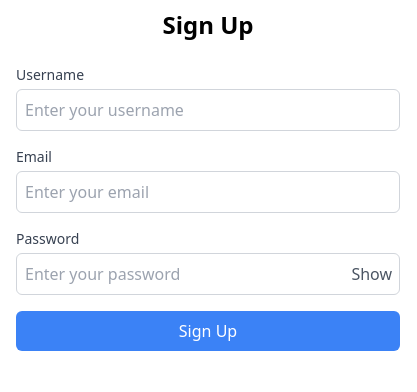
SignUpForm.vue › displays an error message when password is missing
The image size is (417, 392).
Type "testuser" into the field labelled "Username" at (208, 110), box top-left (16, 89), bottom-right (400, 131)
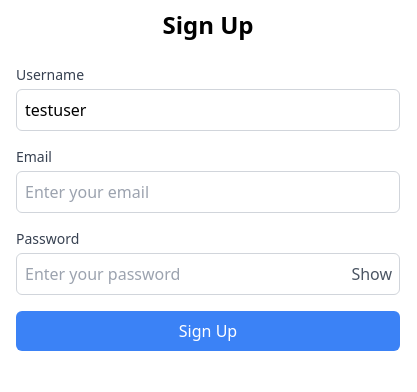
Type "test@example.com" into the field labelled "Email" at (208, 192), box top-left (16, 171), bottom-right (400, 213)
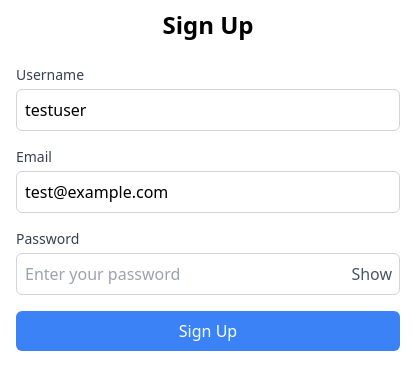
Submit the form
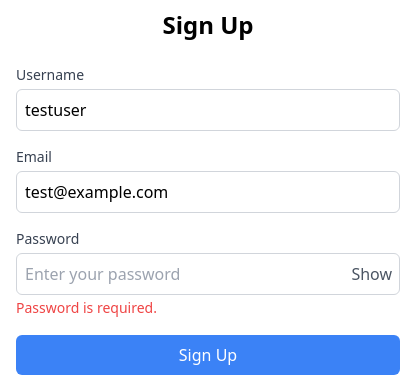
Expected: the text "Password is required." is shown, top-left (16, 298), bottom-right (157, 317)
